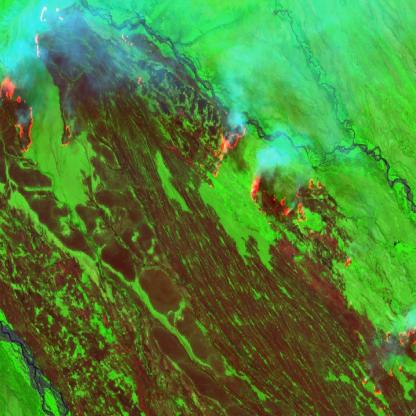fire: (246, 174, 353, 273), (354, 322, 416, 416), (0, 75, 37, 154), (207, 120, 247, 186), (29, 0, 66, 64), (59, 119, 76, 152)
